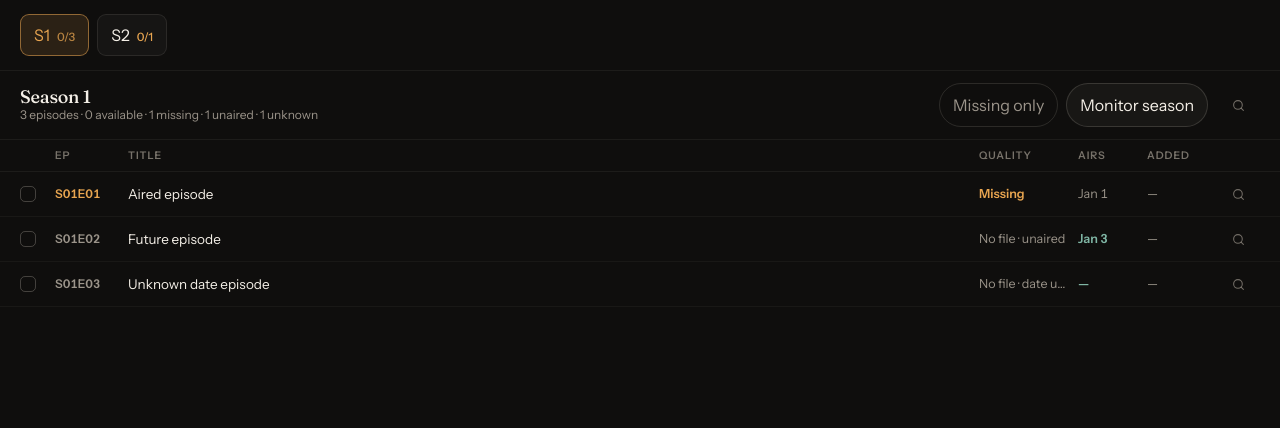
Test: TvEpisodeTable › reports mixed bulk results and keeps failed rows selected for retry
Expected: the text "Aired episode" is shown, [128,184,214,204]
Click the checkbox next to "S01E01" at (32, 194), box [20,172,44,216]
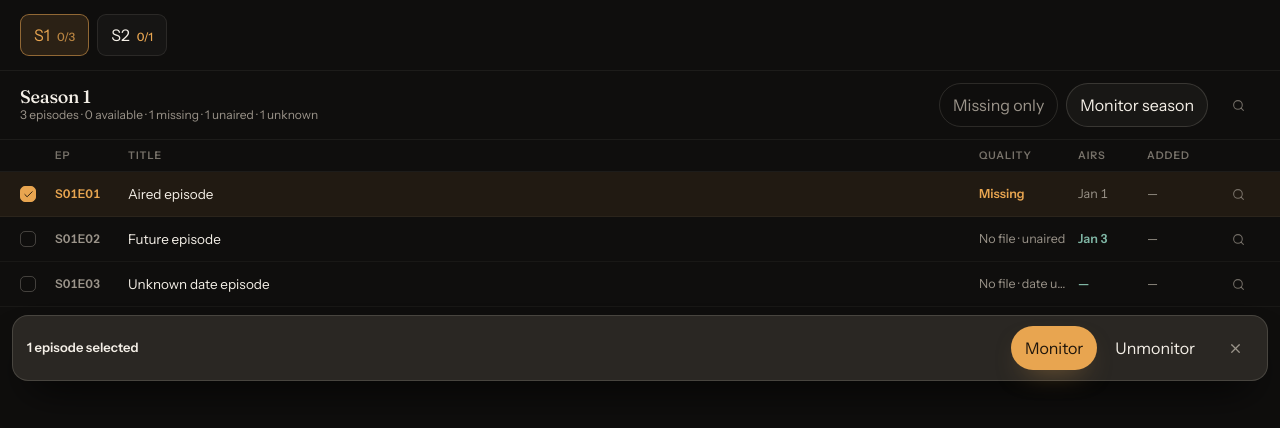
Click the checkbox next to "S01E02" at (32, 239), box [20,217,44,261]
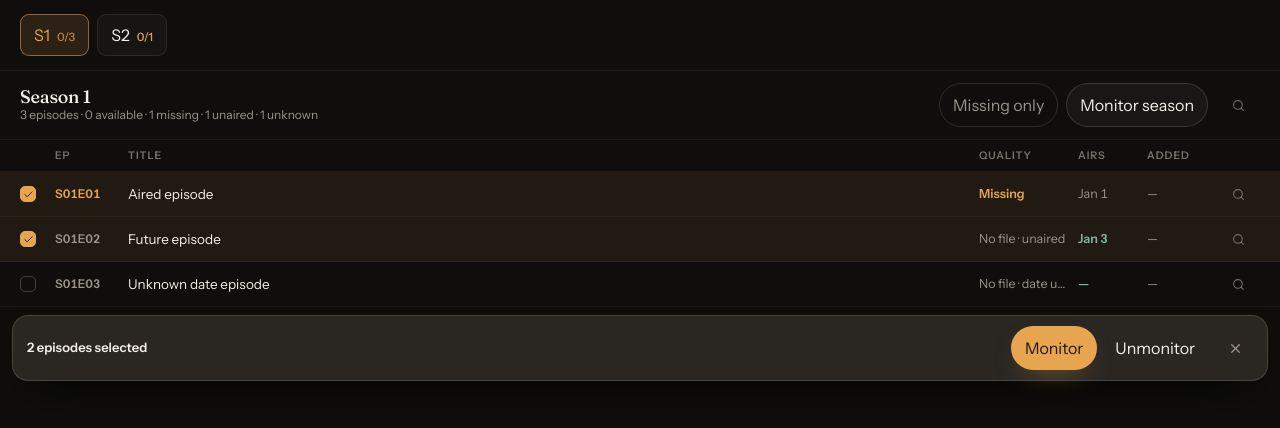
Click the button "Monitor" at (1054, 348), box [1011,326,1097,370]
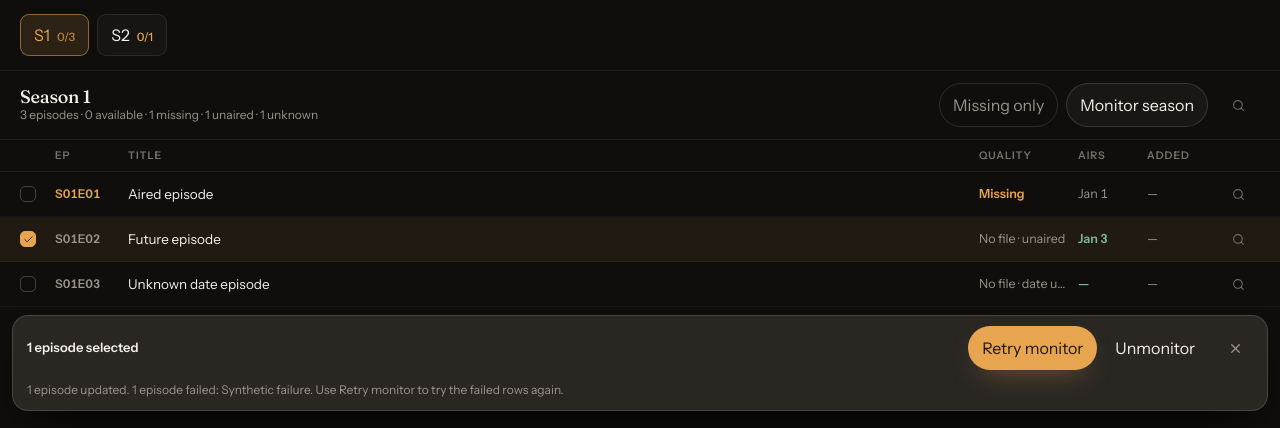
Result: the checkbox next to "S01E01" is not checked at [20,172,44,216]
Result: the checkbox next to "S01E02" is checked at [20,217,44,261]
Result: the message shows "1 episode updated. 1 episode failed: Synthetic failure." at [27,382,564,397]
